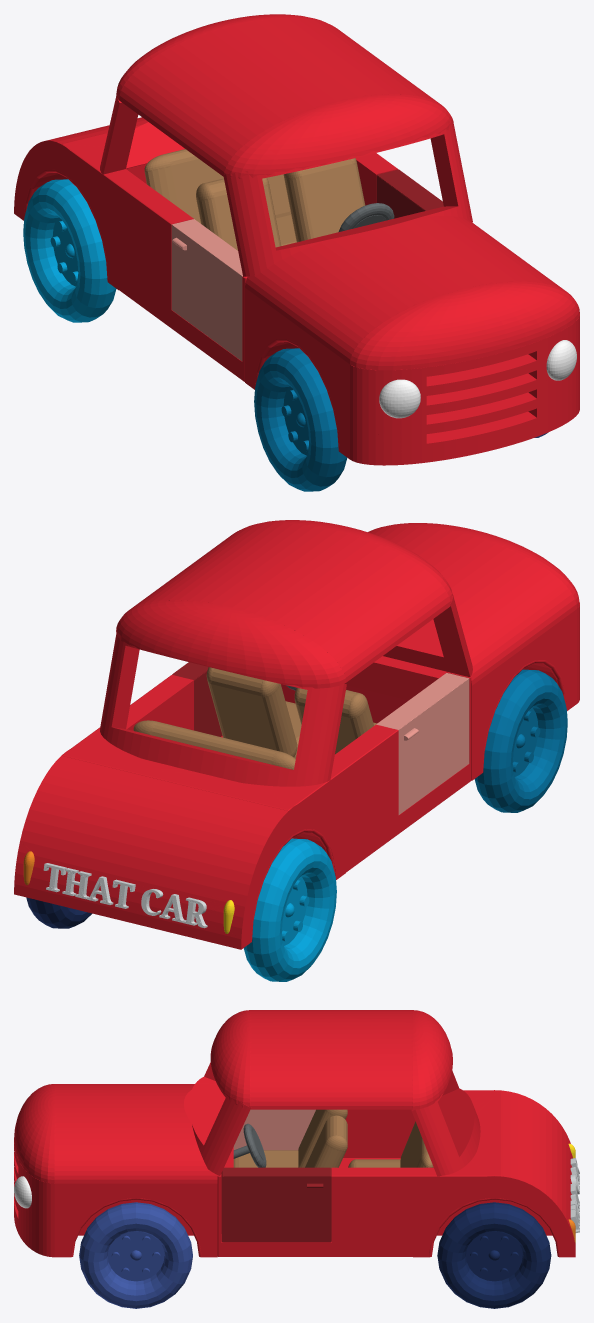
File: tinker.obj
3 renders of one model, top to bottom at view 1: azimuth 30°, elevation 25°; view 2: azimuth 150°, elevation 25°; view 3: azimuth 270°, elevation 25°, orthographic. The views are drawn at different scales.
Visible parts, largest first — view 1: group_0_15277357, group_0_11107152, group_0_30377, group_0_40919, group_0_15308428, group_0_16448250, group_0_9771553, group_0_6383466; view 2: group_0_15277357, group_0_11107152, group_0_40919, group_0_30377, group_0_15308428, group_0_14541540, group_0_9771553, group_0_1650274; view 3: group_0_15277357, group_0_1650274, group_0_3888547, group_0_9771553, group_0_11107152, group_0_15308428, group_0_6383466, group_0_14541540, group_0_16448250.
Part boxes in pixels (x1,y1,x2,y2): group_0_15277357: [14, 14, 579, 465]; group_0_11107152: [144, 149, 365, 250]; group_0_30377: [254, 348, 347, 491]; group_0_40919: [23, 179, 116, 322]; group_0_15308428: [171, 219, 242, 361]; group_0_16448250: [379, 340, 576, 418]; group_0_9771553: [376, 169, 443, 218]; group_0_6383466: [338, 203, 394, 232]; group_0_15277357: [14, 520, 579, 949]; group_0_11107152: [133, 667, 376, 769]; group_0_40919: [243, 838, 336, 981]; group_0_30377: [474, 669, 567, 812]; group_0_15308428: [376, 673, 469, 814]; group_0_14541540: [43, 863, 207, 928]; group_0_9771553: [172, 662, 222, 736]; group_0_1650274: [26, 897, 92, 928]; group_0_15277357: [14, 1010, 575, 1257]; group_0_1650274: [437, 1202, 551, 1308]; group_0_3888547: [79, 1202, 192, 1308]; group_0_9771553: [221, 1167, 331, 1242]; group_0_11107152: [233, 1109, 433, 1168]; group_0_15308428: [233, 1109, 315, 1150]; group_0_6383466: [233, 1123, 266, 1167]; group_0_14541540: [570, 1158, 579, 1232]; group_0_16448250: [14, 1176, 31, 1208].
Size of the model in its own units: 4.23 by 4.83 by 10.5.
